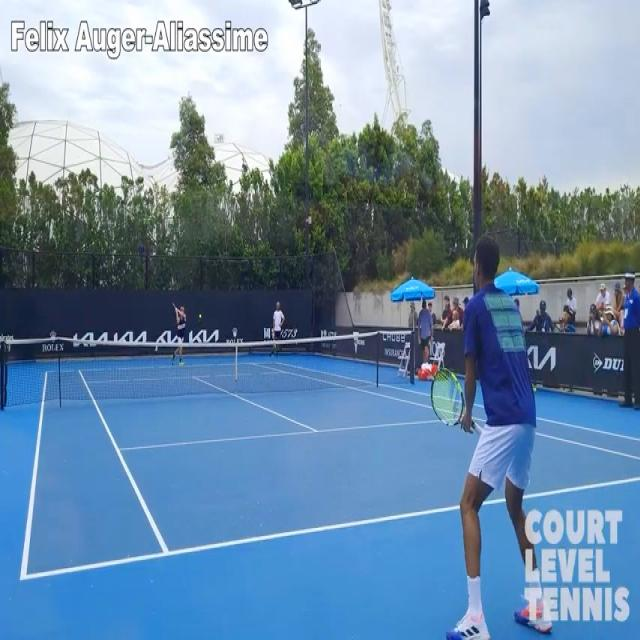ready-position: (429, 220, 551, 640)
